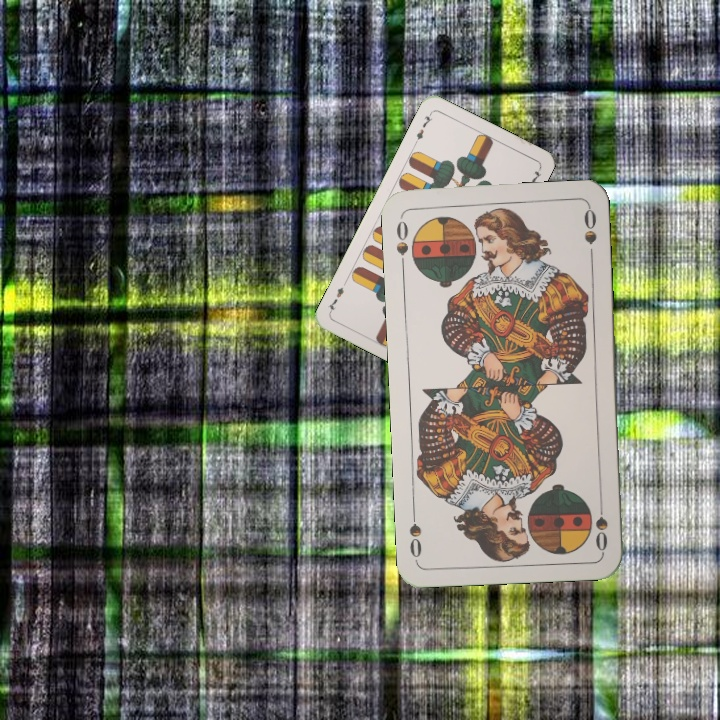E7: (410, 109, 435, 146)
SO: (591, 494, 611, 553), (392, 213, 411, 272)
